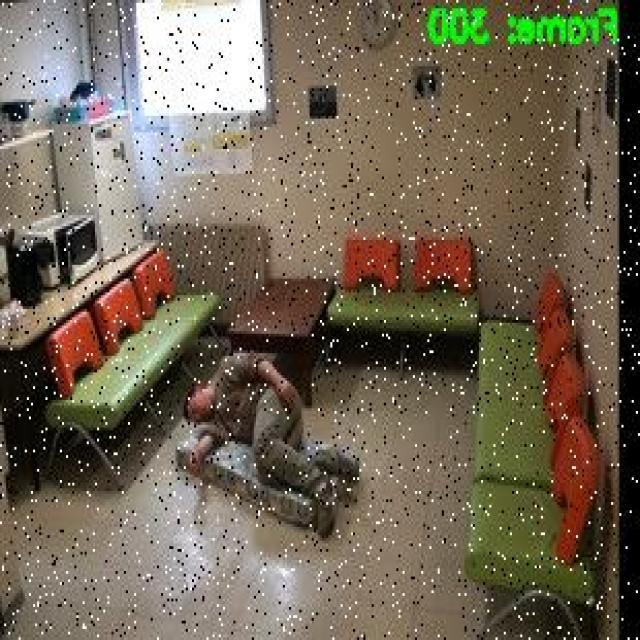fall: (180, 348, 363, 544)
